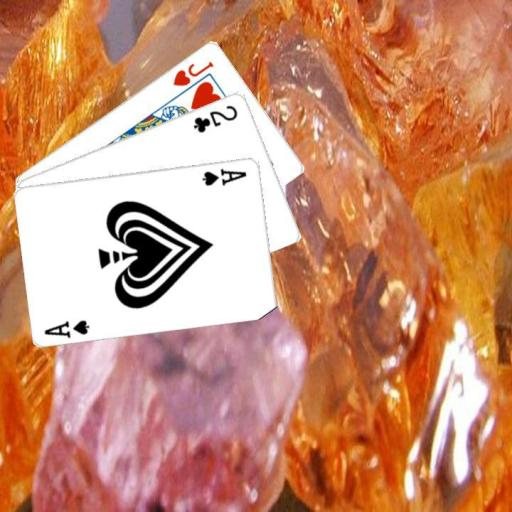2C: (191, 101, 240, 134)
AS: (41, 317, 92, 340), (199, 164, 248, 187)
JH: (170, 58, 215, 88)
